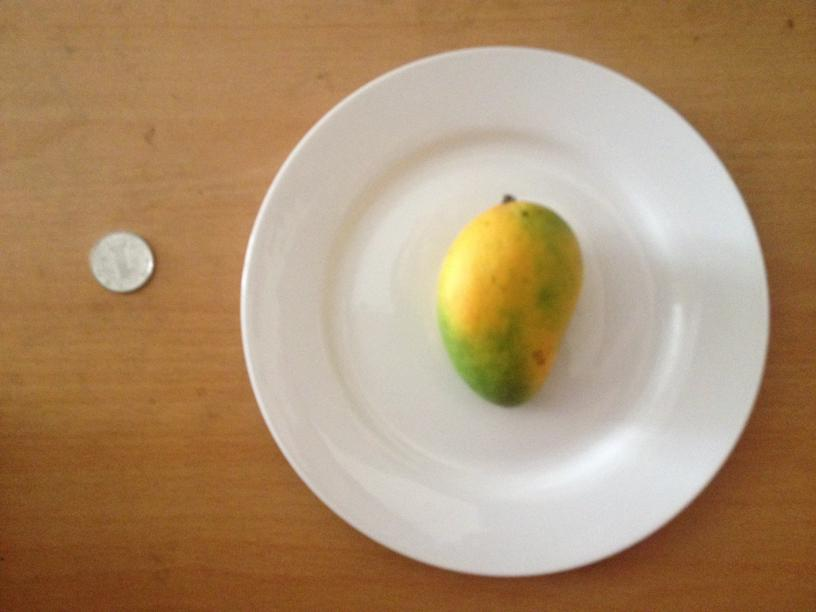coin: (89, 229, 152, 290)
mango: (437, 204, 577, 404)
